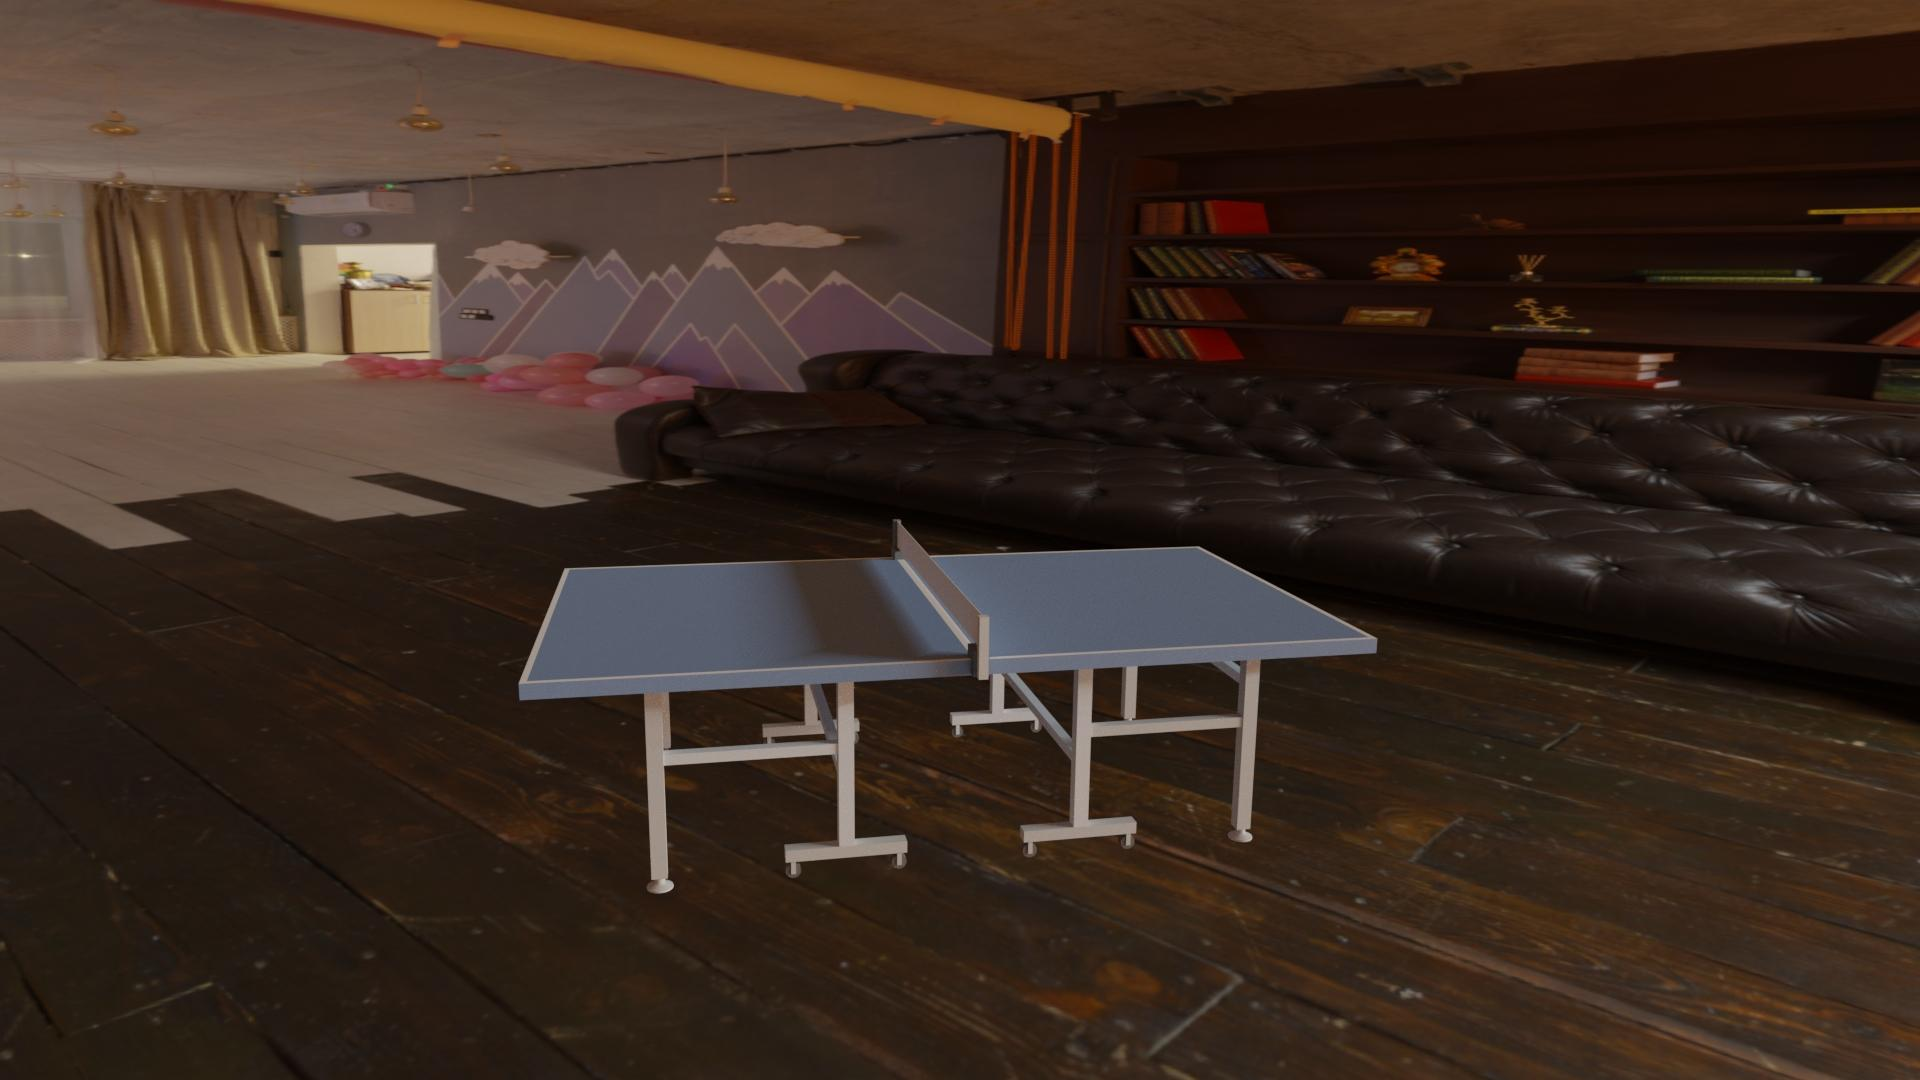table: (526, 547, 1369, 682)
